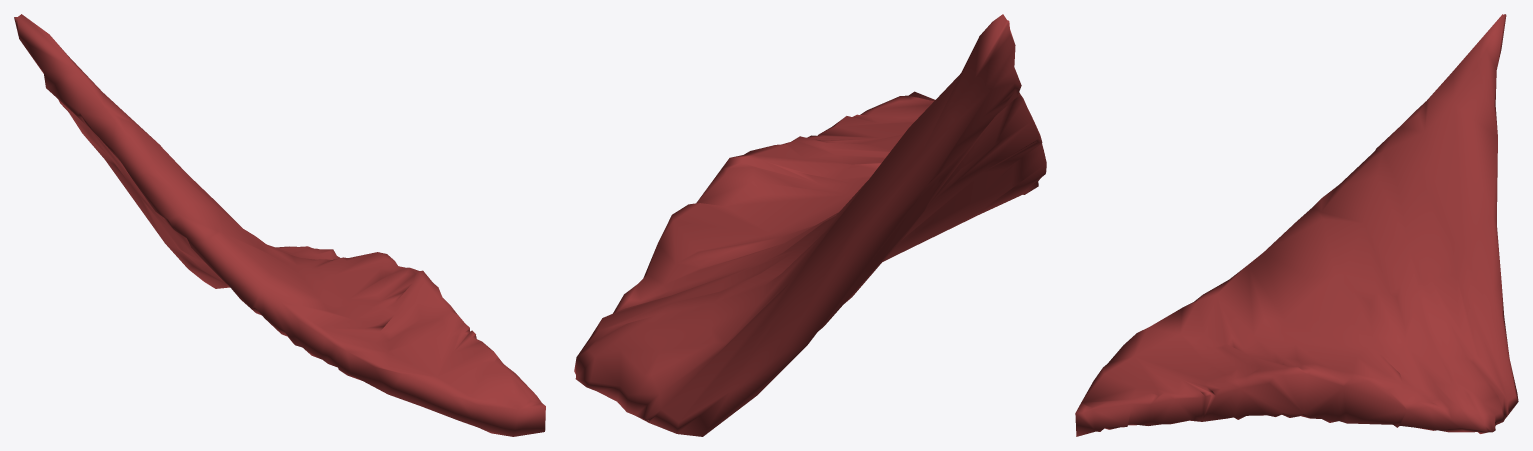
File: mylohyoid-muscle-r.glb
3 views of the same model, side by side, from view 1: azimuth 30°, elevation 25°; view 2: azimuth 150°, elevation 25°; view 3: azimuth 270°, elevation 25° (orthographic). The views are drawn at different scales.
Parts seen in each view (by area): view 1: Mylohyoid muscle.r; view 2: Mylohyoid muscle.r; view 3: Mylohyoid muscle.r.
Boxes of the visible parts, bbox=[...] form: Mylohyoid muscle.r: bbox=[14, 14, 545, 436]; Mylohyoid muscle.r: bbox=[574, 14, 1046, 436]; Mylohyoid muscle.r: bbox=[1075, 14, 1518, 436].
Bounding box in the file's own units: 0.0269 × 0.028 × 0.0378.
